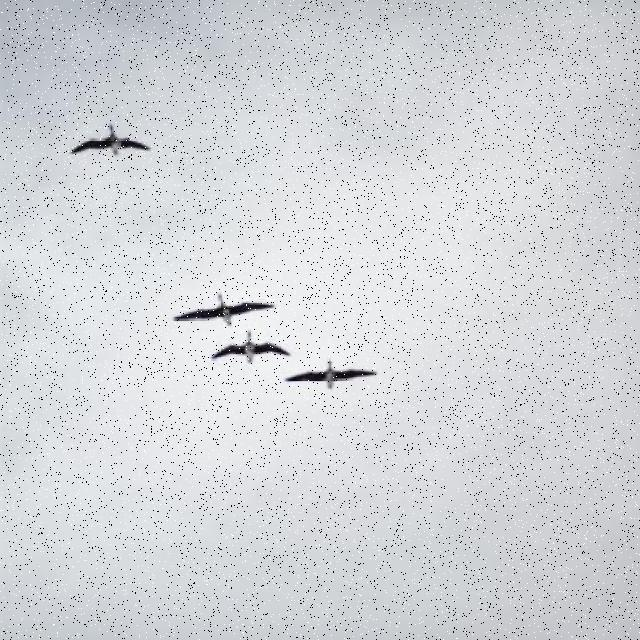bird: (175, 293, 276, 329), (284, 357, 378, 391), (211, 328, 291, 366), (70, 122, 152, 158)
